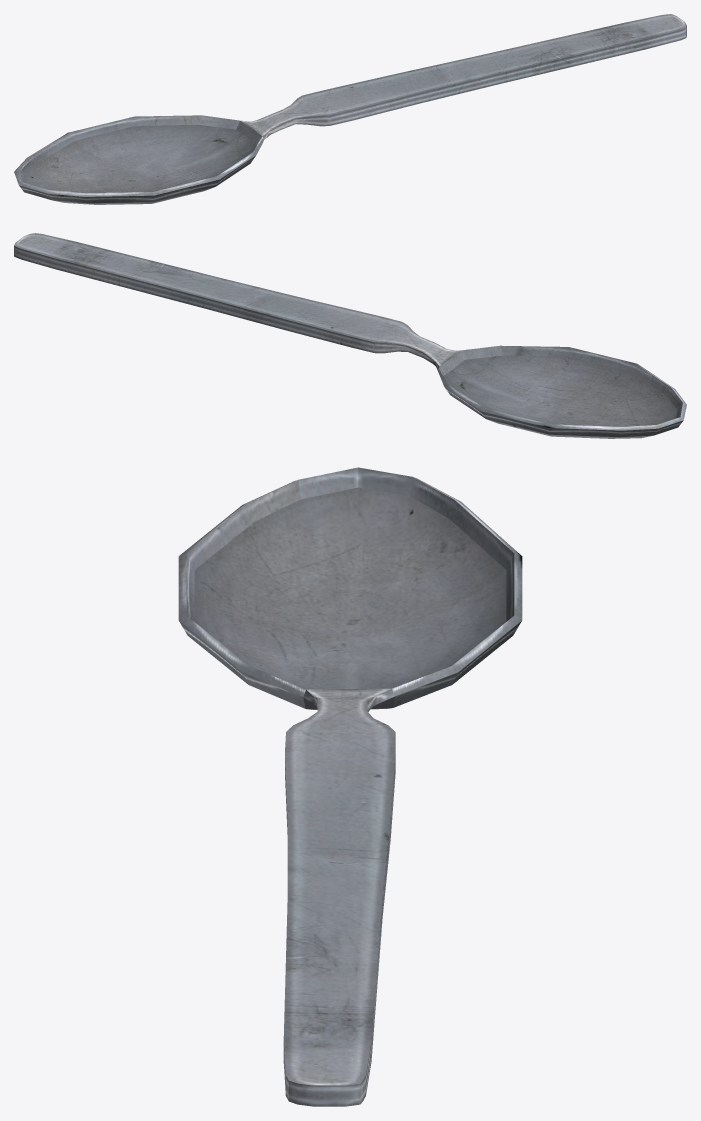
Rendered from Spoon.fbx.
3 renders of one model, top to bottom at view 1: azimuth 30°, elevation 25°; view 2: azimuth 150°, elevation 25°; view 3: azimuth 270°, elevation 25°, orthographic. The views are drawn at different scales.
Visible parts, largest first — view 1: polySurface23; view 2: polySurface23; view 3: polySurface23.
Part boxes in pixels (x1=…): polySurface23: x1=14, y1=14, x2=686, y2=204; polySurface23: x1=14, y1=233, x2=686, y2=438; polySurface23: x1=178, y1=467, x2=522, y2=1106.
Bounding box in the file's own units: 25.66 × 1.42 × 5.83.
